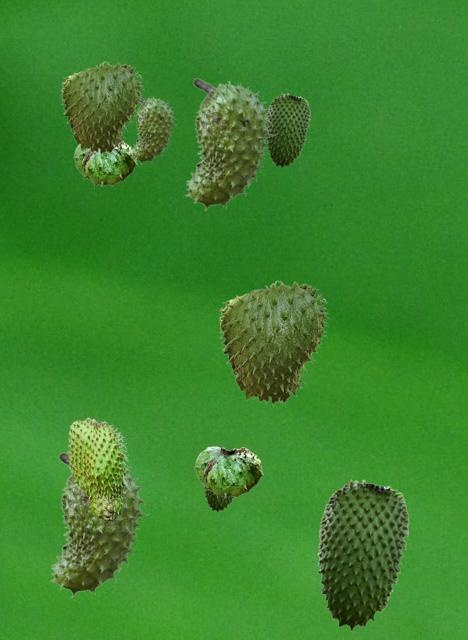guyabano: (49, 452, 148, 597), (219, 280, 329, 406), (317, 479, 408, 630), (184, 78, 275, 210), (61, 61, 143, 155), (66, 417, 129, 523), (194, 446, 262, 499), (266, 93, 309, 167), (130, 96, 176, 163), (73, 141, 136, 187), (203, 487, 234, 511)
